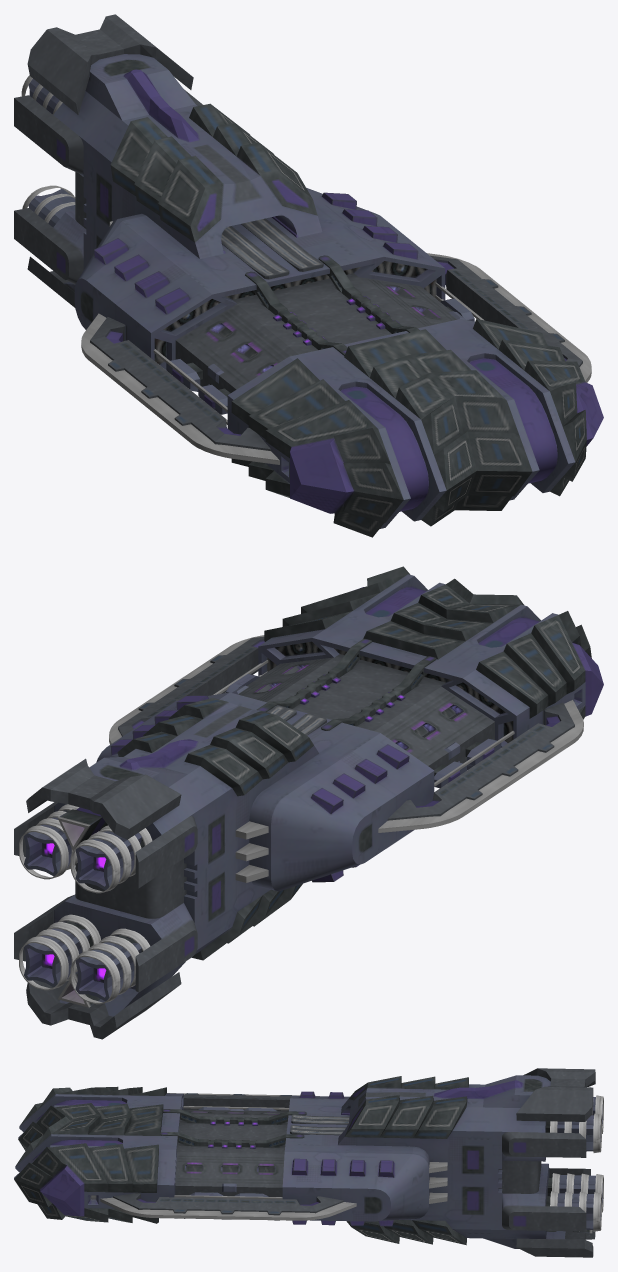
The model's file is watson.glb.
3 views of the same model, one above another, from view 1: azimuth 30°, elevation 25°; view 2: azimuth 150°, elevation 25°; view 3: azimuth 270°, elevation 25° (orthographic). The views are drawn at different scales.
Parts seen in each view (by area): view 1: MeshLP, Cylinder.001; view 2: MeshLP, Cylinder.001; view 3: MeshLP, Cylinder.001.
Part boxes in pixels (box(x1,y1,x2,y2)): MeshLP: box(14, 14, 603, 537); Cylinder.001: box(21, 75, 75, 223); MeshLP: box(14, 566, 603, 1039); Cylinder.001: box(19, 804, 152, 1004); MeshLP: box(14, 1068, 602, 1257); Cylinder.001: box(550, 1095, 603, 1231).
Bounding box in the file's own units: 8.17 × 5.1 × 16.33.
Materials: 2 (2 with a texture image).
